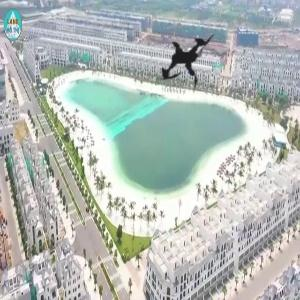drone: (134, 4, 247, 117)
